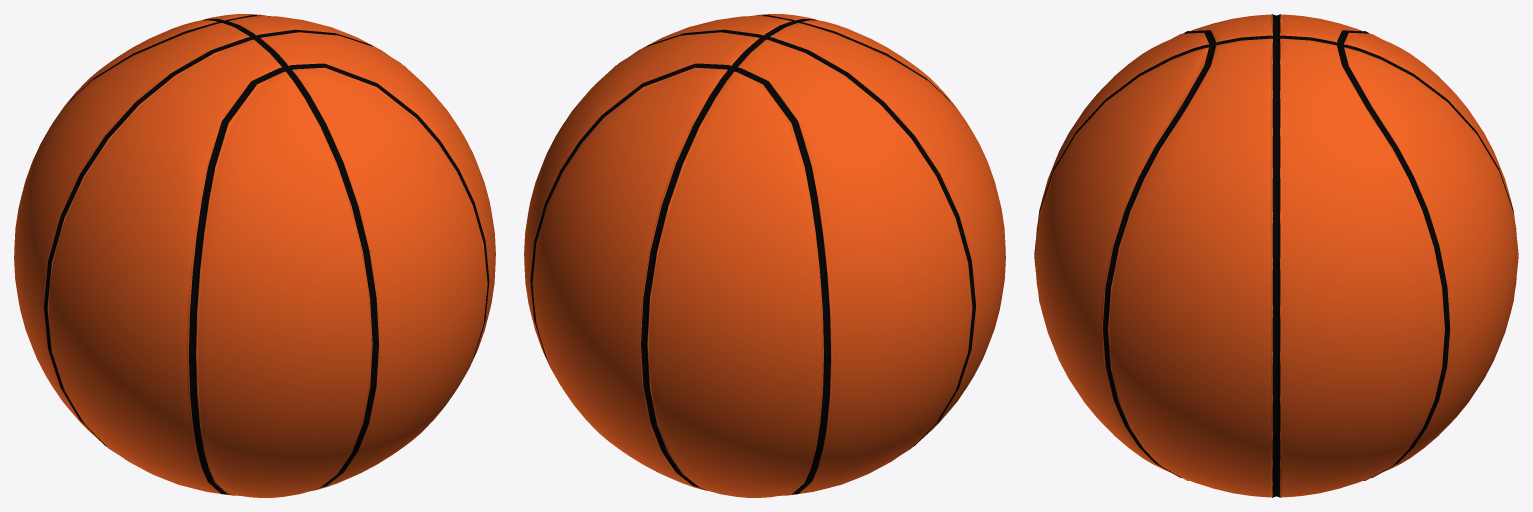
File: uploads_files_5826800_basket+ball.fbx
3 renders of one model, left to right at view 1: azimuth 30°, elevation 25°; view 2: azimuth 150°, elevation 25°; view 3: azimuth 270°, elevation 25°, orthographic.
Parts seen in each view (by area): view 1: Basket ball; view 2: Basket ball; view 3: Basket ball.
Part boxes in pixels (box(x1,y1,x2,y2)): Basket ball: box(14, 14, 495, 497); Basket ball: box(524, 14, 1005, 497); Basket ball: box(1034, 14, 1518, 497).
Bounding box in the file's own units: 163 × 163 × 163.
